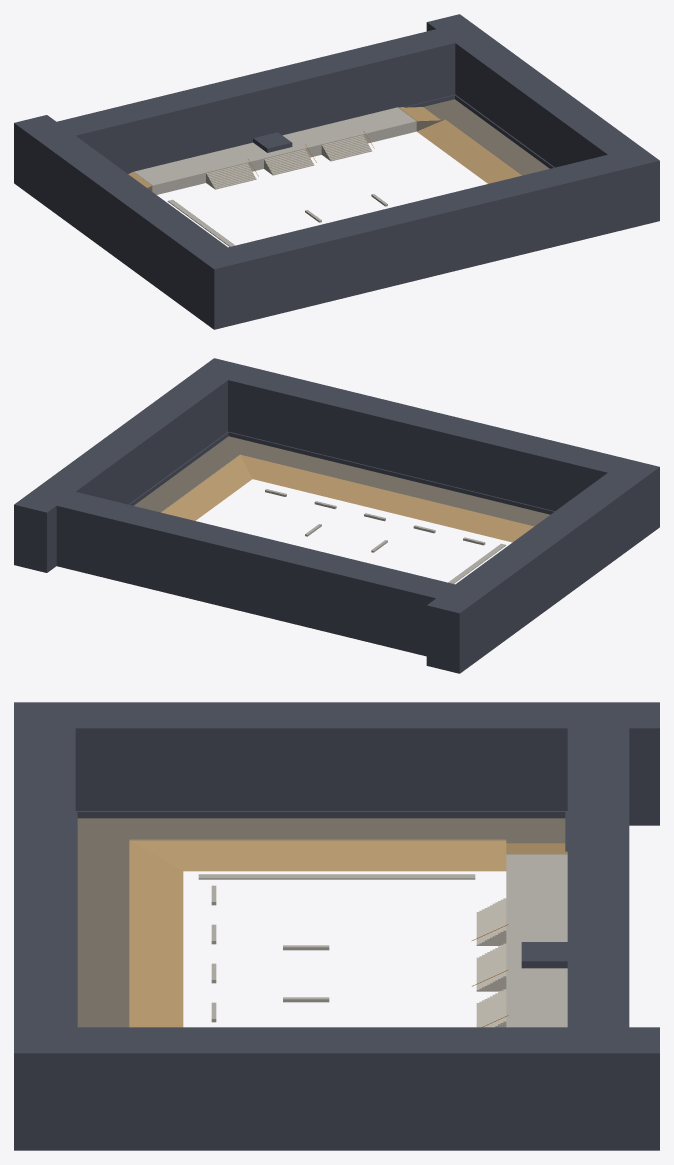
The model's file is spot_plattan.glb.
3 views of the same model, one above another, from view 1: azimuth 30°, elevation 25°; view 2: azimuth 150°, elevation 25°; view 3: azimuth 270°, elevation 25° (orthographic). The views are drawn at different scales.
Parts seen in each view (by area): view 1: spot_plattan; view 2: spot_plattan; view 3: spot_plattan.
Boxes of the visible parts, x1,y1,x2,y2 form: spot_plattan: (14, 14, 659, 329); spot_plattan: (14, 358, 659, 673); spot_plattan: (14, 702, 659, 1150).
Size of the model in its own units: 108 by 14 by 84.
Materials: 1 (1 with a texture image).
